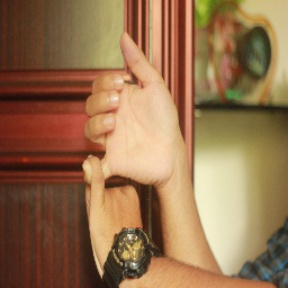S: (72, 31, 190, 274)
